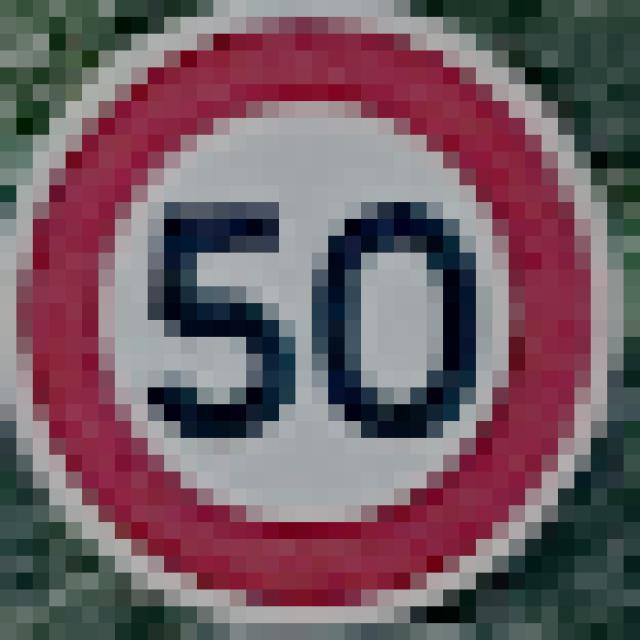speed_50: (0, 0, 624, 623)
